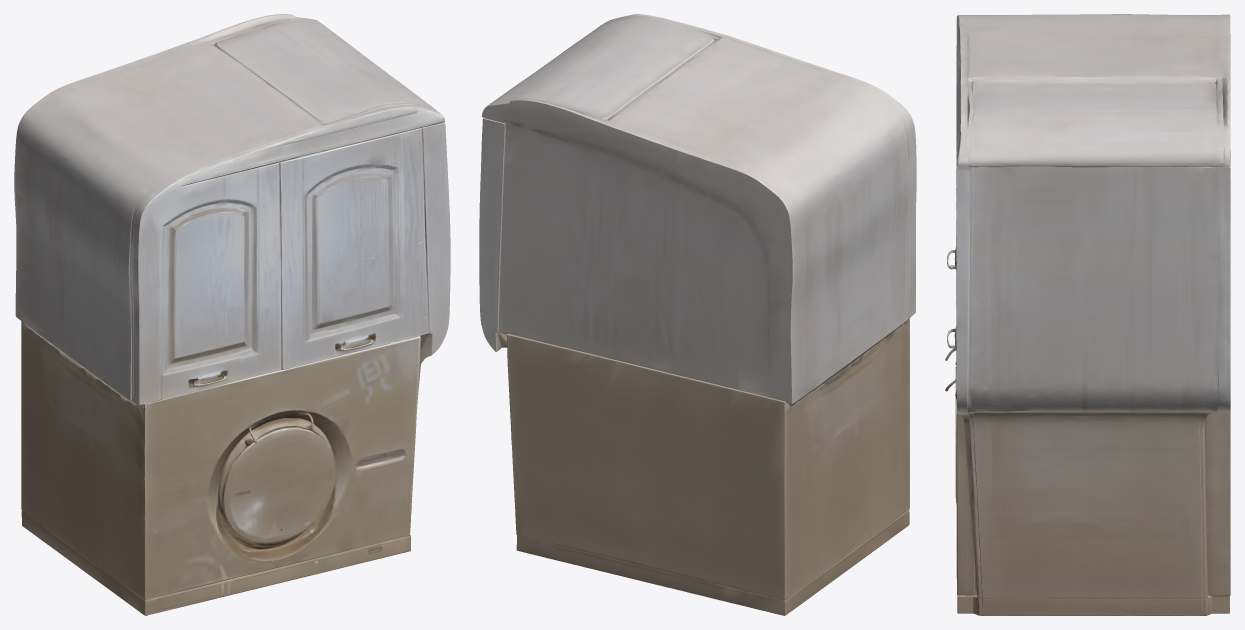
The model's file is spice-set.glb.
3 renders of one model, left to right at view 1: azimuth 30°, elevation 25°; view 2: azimuth 150°, elevation 25°; view 3: azimuth 270°, elevation 25°, orthographic. The views are drawn at different scales.
Parts seen in each view (by area): view 1: model; view 2: model; view 3: model.
Part boxes in pixels (left/top/right/bottom): model: left=14, top=14, right=450, bottom=615; model: left=479, top=14, right=916, bottom=615; model: left=945, top=14, right=1230, bottom=615.
Size of the model in its own units: 1.39 by 1.9 by 0.9902.
1 material, 1 textured.
